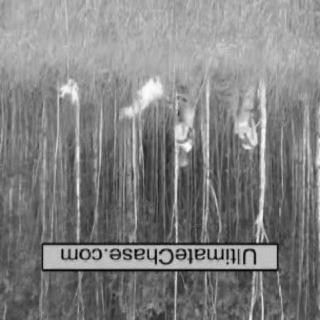Fire: (42, 64, 180, 128)
